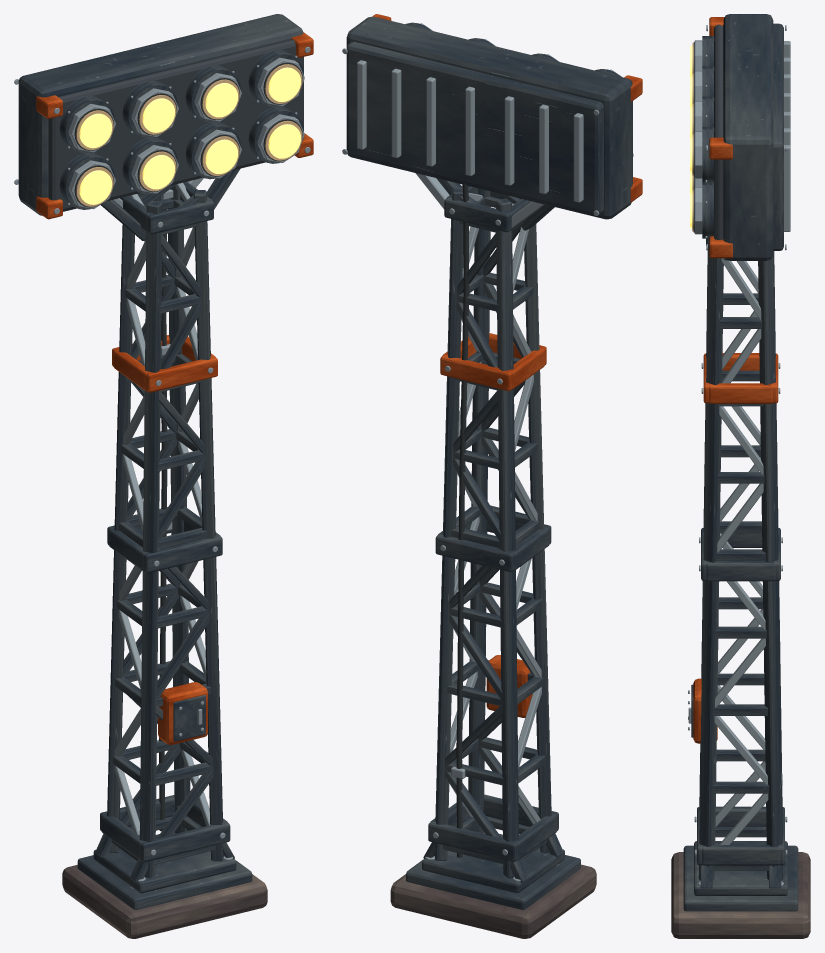
The model's file is wsc-module-024-floodlight-tower.glb.
3 views of the same model, side by side, from view 1: azimuth 30°, elevation 25°; view 2: azimuth 150°, elevation 25°; view 3: azimuth 270°, elevation 25° (orthographic).
Parts seen in each view (by area): view 1: wsc-module-024-floodlight-tower; view 2: wsc-module-024-floodlight-tower; view 3: wsc-module-024-floodlight-tower.
Boxes of the visible parts, x1,y1,x2,y2 form: wsc-module-024-floodlight-tower: (14,14,313,938); wsc-module-024-floodlight-tower: (342,14,642,938); wsc-module-024-floodlight-tower: (671,14,810,938).
Bounding box in the file's own units: 2.94 × 8.9 × 1.35.
Materials: 8 (3 with a texture image).
